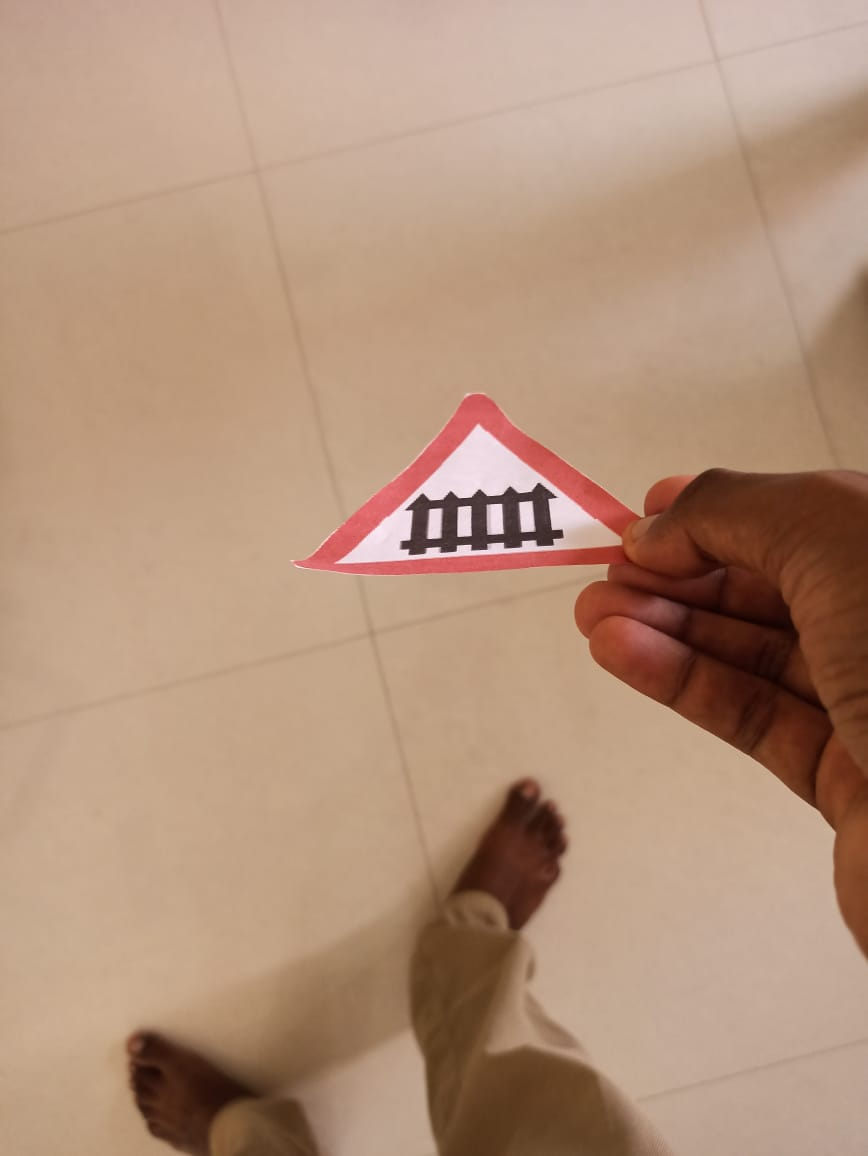W: (297, 387, 671, 581)
